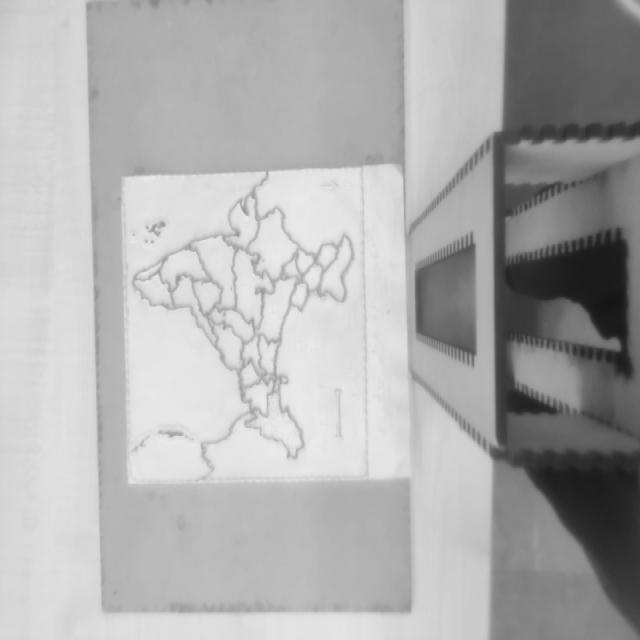map: (122, 167, 368, 482)
